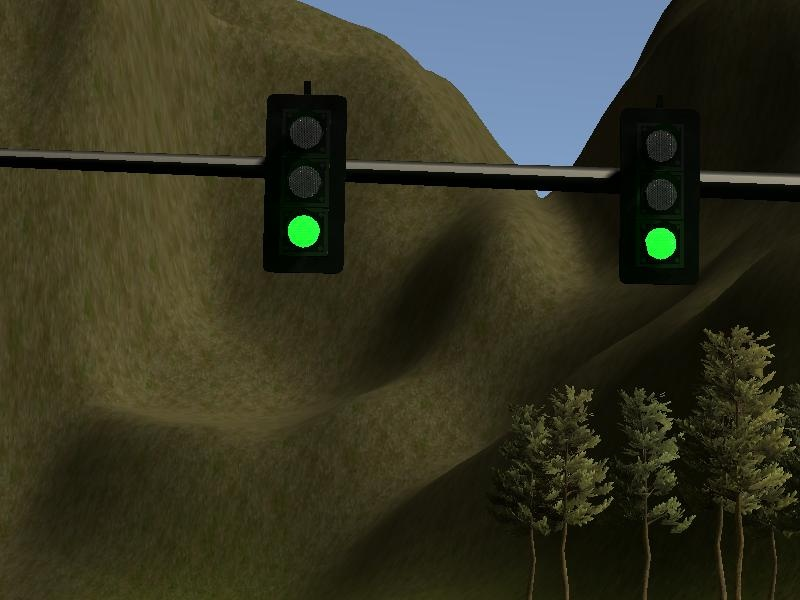green: (264, 92, 348, 277), (619, 106, 701, 288)
